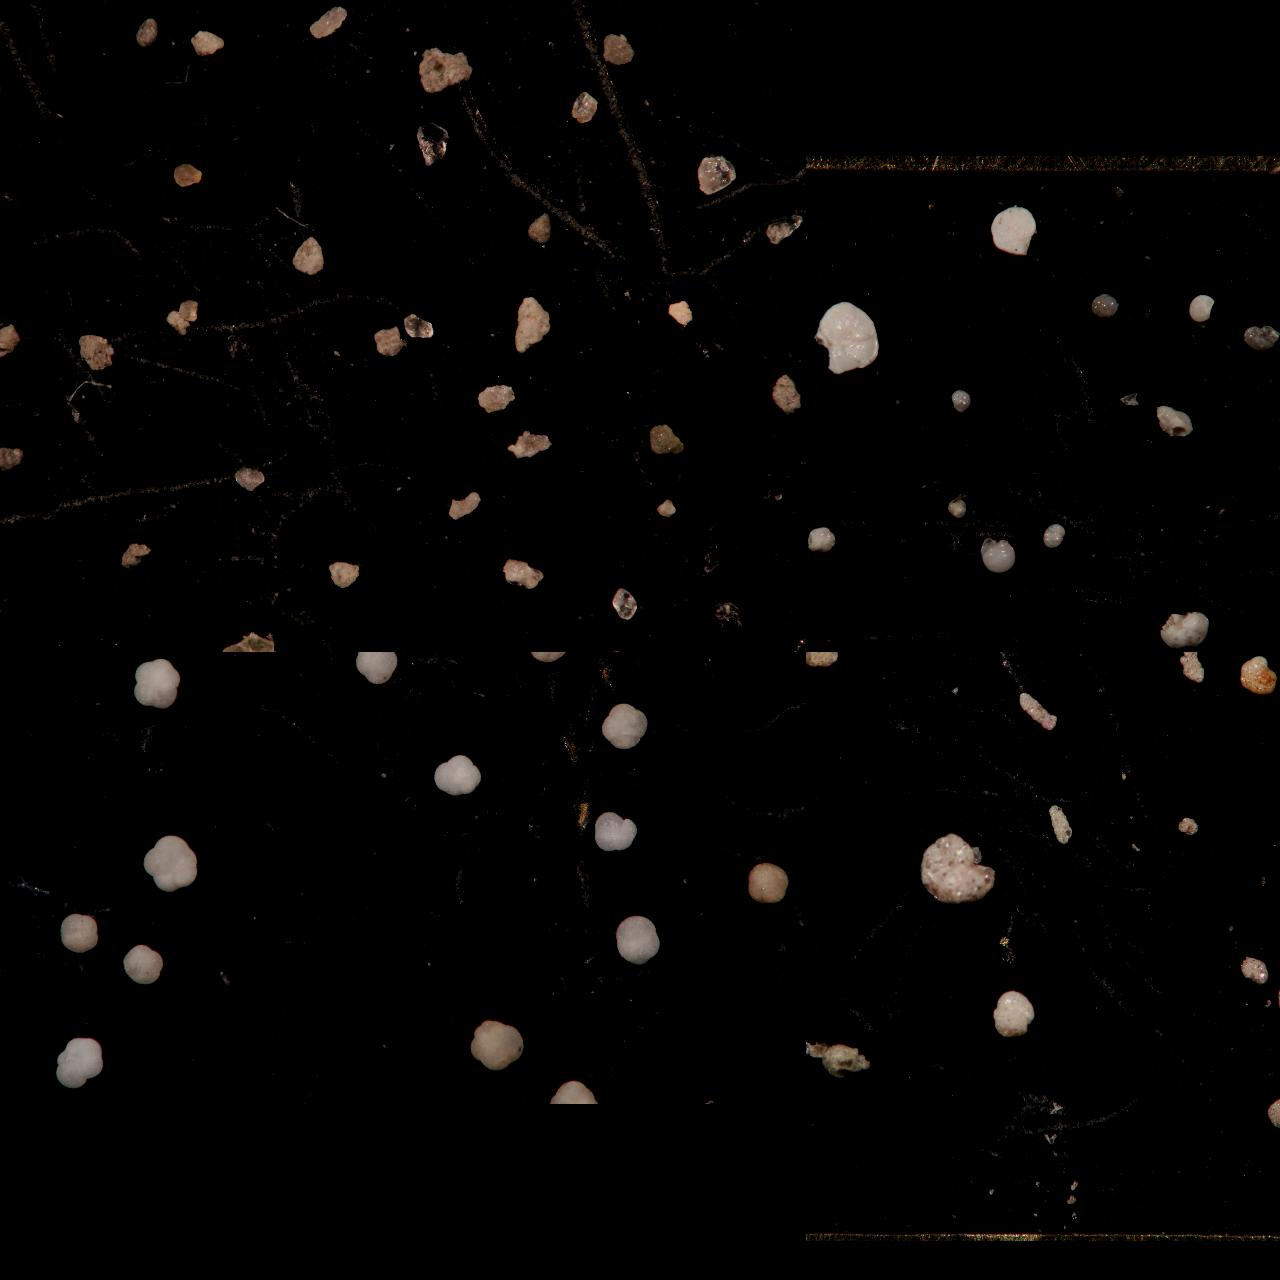Sediment: (413, 47, 474, 94), (0, 445, 33, 525), (511, 294, 551, 354), (696, 154, 738, 195), (411, 122, 449, 166), (290, 234, 327, 275), (497, 558, 545, 588), (307, 5, 348, 40), (504, 430, 552, 459), (763, 211, 804, 245), (79, 333, 114, 372), (216, 629, 277, 652), (770, 374, 803, 415), (646, 422, 685, 456), (474, 384, 517, 414), (598, 33, 634, 66), (370, 325, 406, 358), (445, 491, 483, 520), (190, 29, 226, 57), (568, 91, 599, 124), (402, 311, 436, 340), (118, 542, 152, 571), (611, 586, 638, 620), (526, 210, 552, 245), (327, 561, 361, 587), (170, 162, 204, 188), (232, 467, 266, 492), (397, 0, 438, 21), (132, 16, 159, 48), (0, 321, 21, 358), (668, 300, 696, 327), (218, 0, 254, 20), (0, 147, 19, 184), (162, 311, 188, 335), (0, 444, 23, 471), (0, 561, 20, 592), (0, 70, 16, 105), (0, 257, 18, 286), (0, 256, 14, 291), (0, 467, 18, 495), (0, 107, 15, 138), (178, 299, 199, 321), (654, 499, 678, 518), (0, 349, 18, 374), (709, 0, 734, 14), (0, 0, 20, 15), (0, 0, 22, 13), (0, 0, 21, 12)
agglutinated: (919, 832, 996, 904), (806, 951, 903, 1000), (806, 730, 851, 794), (806, 1041, 873, 1077), (990, 990, 1036, 1039), (1015, 690, 1057, 729), (1239, 654, 1278, 694), (1046, 803, 1074, 843), (806, 1067, 829, 1114), (1176, 652, 1205, 685), (1054, 652, 1089, 674), (1239, 958, 1268, 982), (806, 701, 828, 735), (806, 965, 822, 1002), (806, 652, 838, 667), (806, 685, 824, 712), (1265, 1097, 1280, 1128), (806, 815, 823, 843), (1178, 816, 1198, 837), (806, 652, 828, 670), (806, 652, 829, 669), (806, 763, 821, 790), (806, 831, 819, 859), (806, 825, 821, 851), (1102, 652, 1126, 666), (806, 652, 826, 666), (806, 652, 825, 666), (989, 652, 1012, 663), (806, 762, 817, 784), (913, 652, 939, 660), (806, 762, 817, 781), (806, 652, 818, 663), (806, 652, 816, 666)
calcareous: (810, 299, 880, 375), (989, 205, 1036, 257), (1157, 610, 1210, 651), (979, 537, 1017, 576), (1152, 406, 1194, 437), (806, 557, 829, 606), (806, 271, 829, 316), (1242, 324, 1280, 350), (806, 458, 828, 501), (1088, 293, 1121, 319), (806, 526, 837, 553), (806, 497, 824, 543), (1187, 293, 1216, 321), (1040, 522, 1067, 549), (806, 417, 824, 456), (806, 253, 824, 290), (949, 388, 973, 414), (806, 380, 825, 409), (945, 497, 969, 519), (806, 533, 817, 552)
planktic: (142, 833, 198, 892), (468, 1019, 524, 1071), (52, 1036, 104, 1090), (132, 658, 182, 710), (599, 701, 649, 750), (614, 914, 660, 966), (433, 753, 482, 797), (592, 810, 638, 853), (122, 941, 164, 987), (745, 862, 789, 905), (57, 912, 101, 954), (353, 652, 401, 685), (52, 652, 107, 679), (731, 652, 783, 678), (545, 1078, 599, 1103), (697, 652, 744, 678), (0, 876, 23, 924), (614, 652, 658, 674), (382, 652, 425, 674), (192, 652, 234, 674), (525, 652, 570, 672), (0, 1023, 19, 1064), (238, 652, 278, 670), (504, 652, 540, 669), (0, 670, 16, 704), (787, 652, 806, 674), (610, 652, 642, 665), (38, 652, 61, 665)
